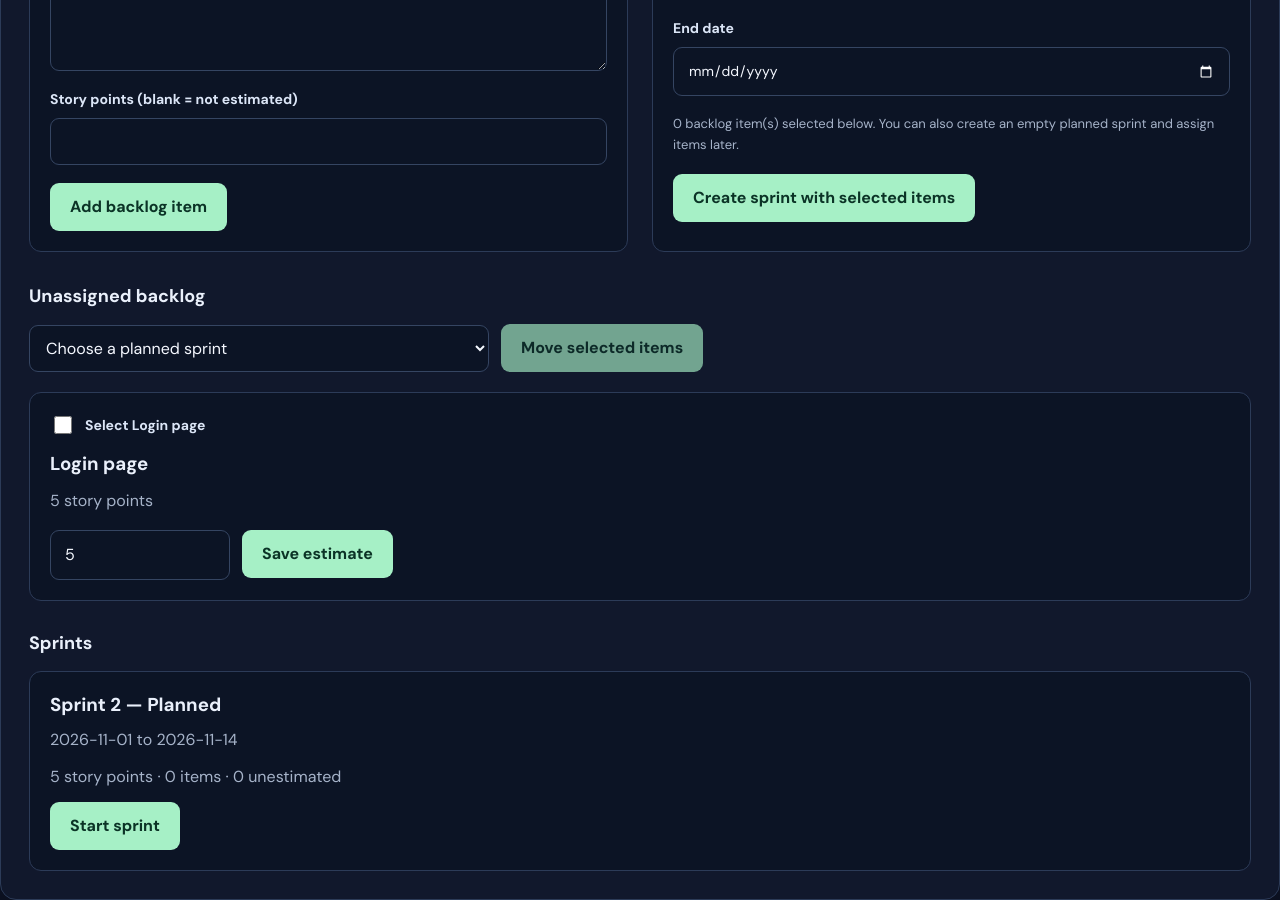
Test case: shows the empty sprint start error returned by the API
(page scrolled)
Click the button "Start sprint": click(115, 826) [50,802,180,850]
(page scrolled)
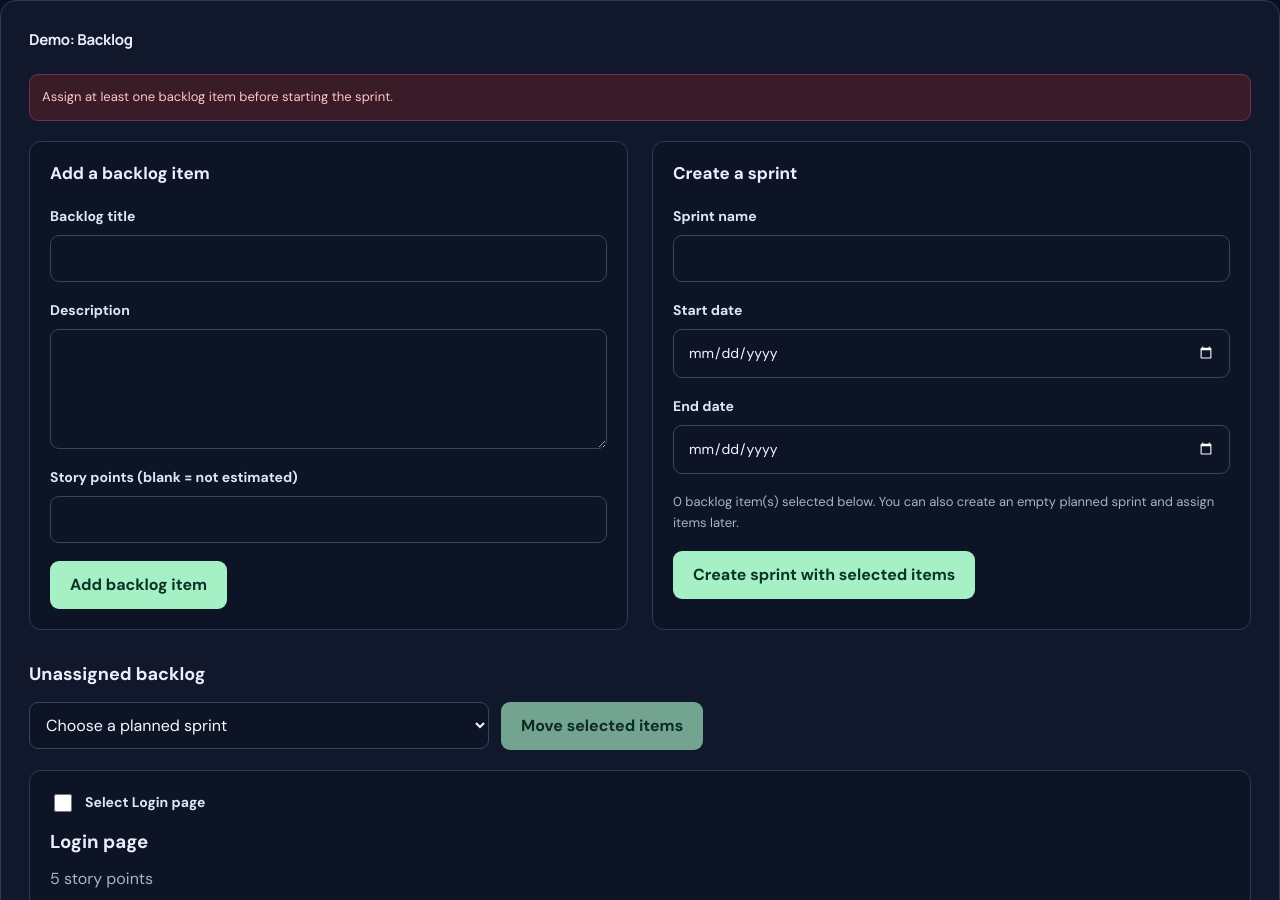
Result: the message shows "Assign at least one backlog item" at [42,88,393,105]
